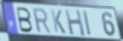6: (101, 11, 117, 38)
B: (16, 7, 34, 34)
H: (64, 9, 87, 38)
I: (82, 10, 93, 37)
K: (50, 8, 67, 35)
R: (31, 8, 52, 35)
